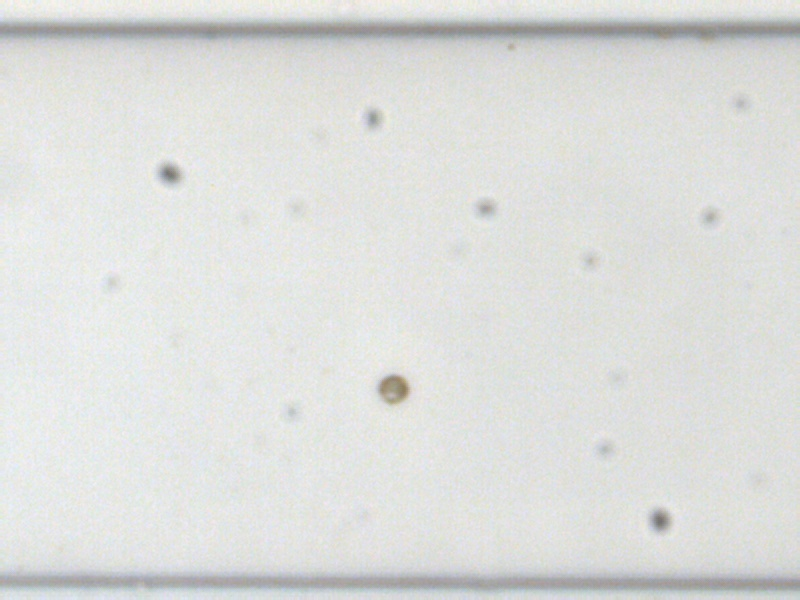Effrenium: (376, 370, 409, 406)
